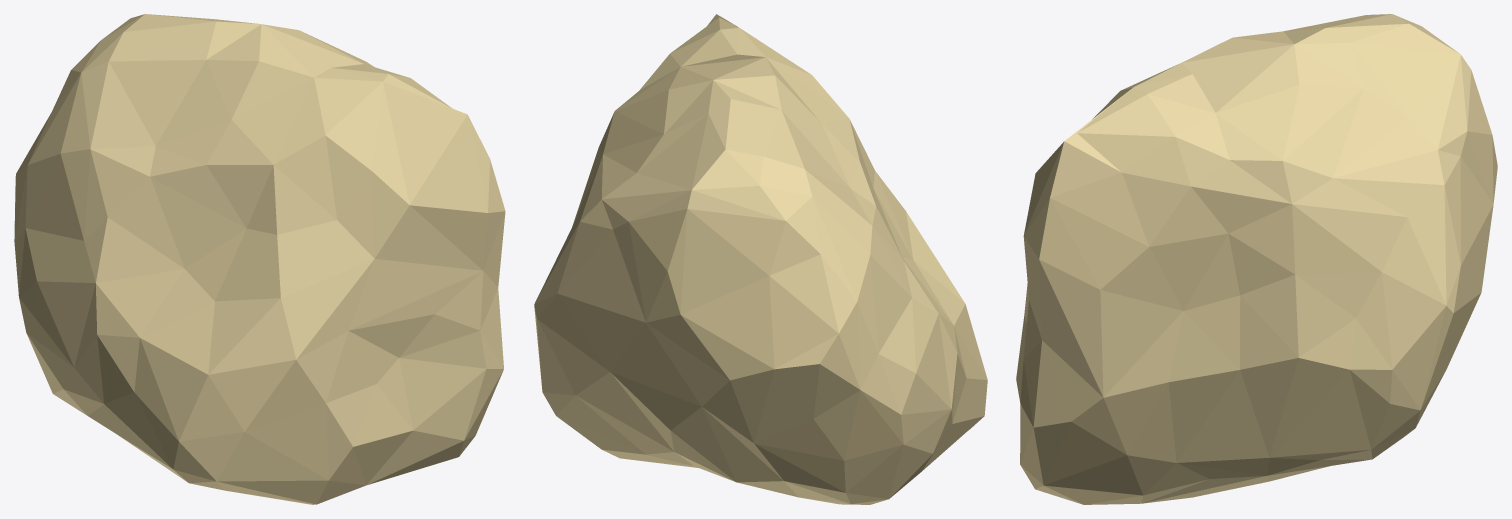
Rendered from Asteroid (116).fbx.
3 renders of one model, left to right at view 1: azimuth 30°, elevation 25°; view 2: azimuth 150°, elevation 25°; view 3: azimuth 270°, elevation 25°, orthographic. The views are drawn at different scales.
Parts seen in each view (by area): view 1: Asteroid127; view 2: Asteroid127; view 3: Asteroid127.
Boxes of the visible parts, x1,y1,x2,y2 form: Asteroid127: (14, 14, 505, 504); Asteroid127: (534, 14, 987, 504); Asteroid127: (1016, 14, 1497, 504).
Bounding box in the file's own units: 190 × 207 × 206.
